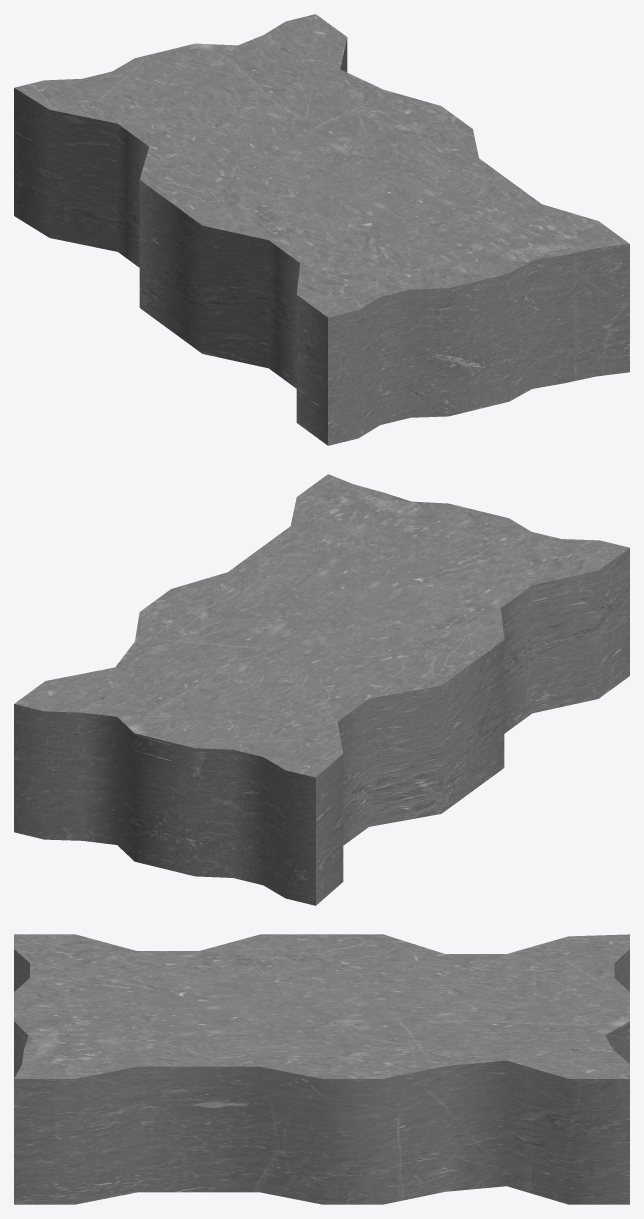
The model's file is road side bricks.fbx.
3 renders of one model, top to bottom at view 1: azimuth 30°, elevation 25°; view 2: azimuth 150°, elevation 25°; view 3: azimuth 270°, elevation 25°, orthographic.
Parts seen in each view (by area): view 1: pCube1; view 2: pCube1; view 3: pCube1.
Part boxes in pixels (<box>): pCube1: <box>14,14,629,445</box>; pCube1: <box>14,474,629,905</box>; pCube1: <box>14,934,629,1204</box>.
Size of the model in its own units: 0.5548 by 0.2252 by 1.
Materials: 1 (1 with a texture image).
